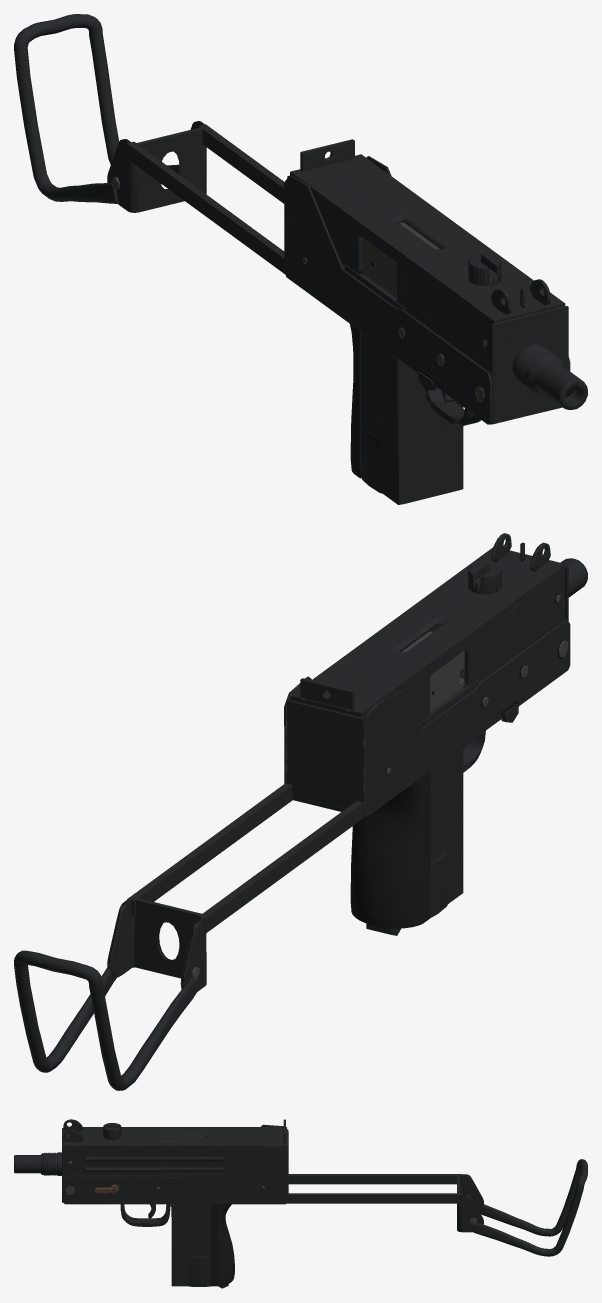
The model's file is SM_MAC10_LOD2.fbx.
3 views of the same model, one above another, from view 1: azimuth 30°, elevation 25°; view 2: azimuth 150°, elevation 25°; view 3: azimuth 270°, elevation 25° (orthographic). The views are drawn at different scales.
Parts seen in each view (by area): view 1: SM_MAC10_LOD2; view 2: SM_MAC10_LOD2; view 3: SM_MAC10_LOD2.
Part boxes in pixels (bbox=[...]): SM_MAC10_LOD2: bbox=[14, 14, 587, 504]; SM_MAC10_LOD2: bbox=[14, 533, 587, 1090]; SM_MAC10_LOD2: bbox=[14, 1119, 587, 1288].
Bounding box in the file's own units: 5.62 × 55.8 × 17.22.
Materials: 2 (2 with a texture image).
